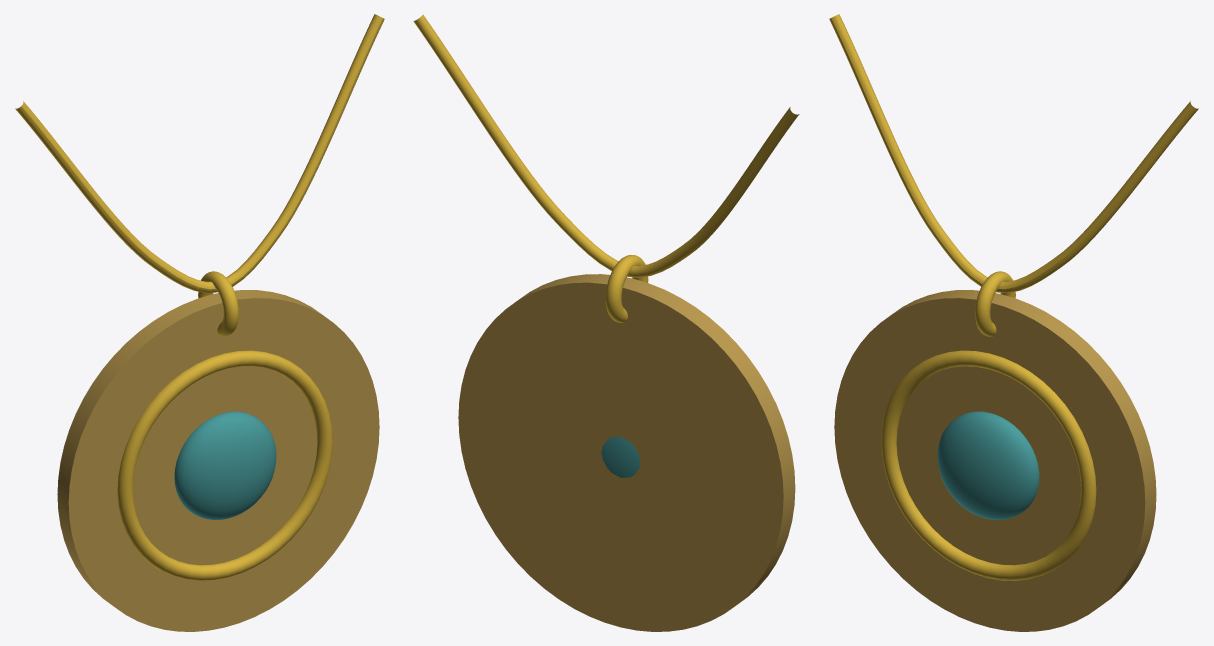
The model's file is handmade_pendant.glb.
The picture shows the model from 3 angles, left to right: view 1: azimuth 30°, elevation 25°; view 2: azimuth 150°, elevation 25°; view 3: azimuth 330°, elevation 25°; orthographic projection. The views are drawn at different scales.
Size of the model in its own units: 1.33 by 1.9 by 0.2588.
